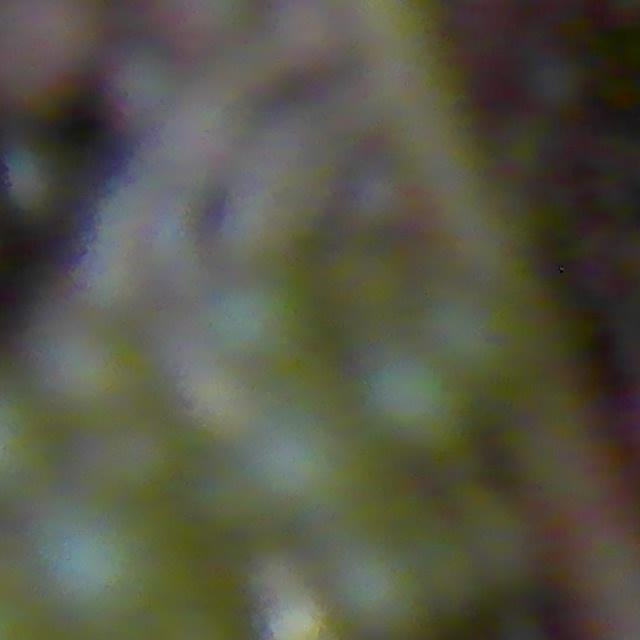SeaGrape: (33, 516, 149, 621), (366, 352, 467, 454), (337, 545, 429, 638), (208, 279, 297, 362)
